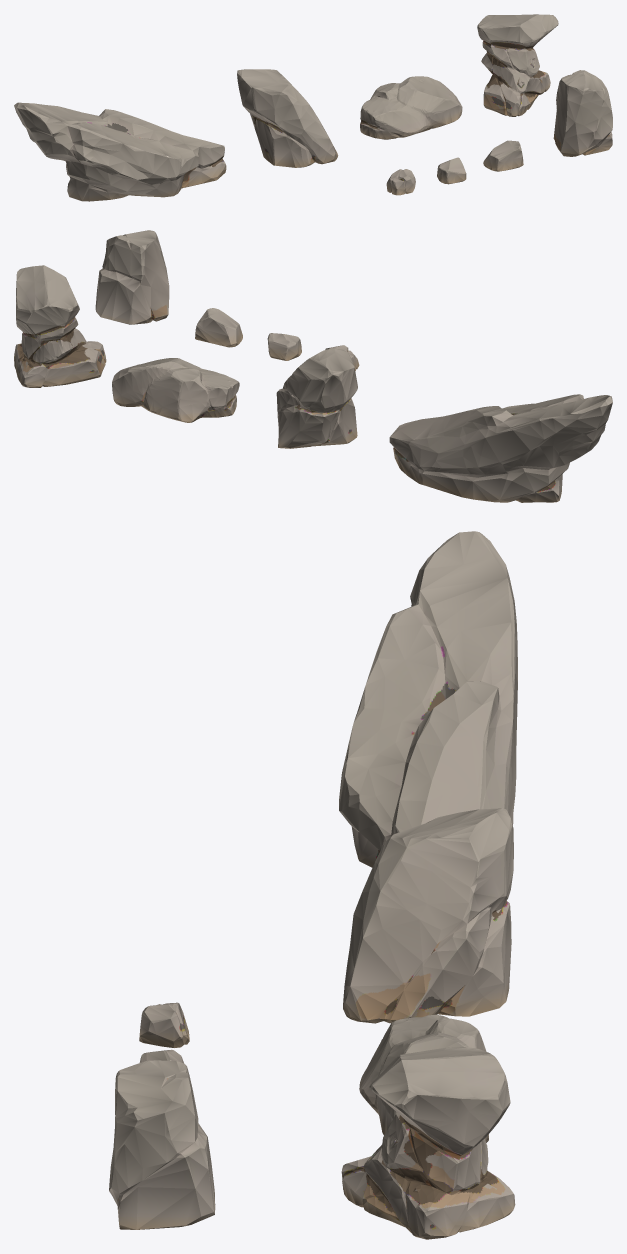
File: RockSetStylized.fbx
3 renders of one model, top to bottom at view 1: azimuth 30°, elevation 25°; view 2: azimuth 150°, elevation 25°; view 3: azimuth 270°, elevation 25°, orthographic. The views are drawn at different scales.
Parts seen in each view (by area): view 1: RockSetStylized_01_Rock, RockSetStylized_02_Rock, RockSetStylized_07_Rock, RockSetStylized_04_Rock, RockSetStylized_06_Rock, RockSetStylized_03_Rock, RockSetStylized_05_Rock; view 2: RockSetStylized_01_Rock, RockSetStylized_07_Rock, RockSetStylized_02_Rock, RockSetStylized_04_Rock, RockSetStylized_06_Rock, RockSetStylized_05_Rock, RockSetStylized_03_Rock; view 3: RockSetStylized_01_Rock, RockSetStylized_02_Rock, RockSetStylized_07_Rock, RockSetStylized_06_Rock, RockSetStylized_04_Rock, RockSetStylized_03_Rock.
Part boxes in pixels (x1=…): RockSetStylized_01_Rock: x1=14, y1=102, x2=226, y2=201; RockSetStylized_02_Rock: x1=237, y1=69, x2=338, y2=167; RockSetStylized_07_Rock: x1=477, y1=14, x2=558, y2=116; RockSetStylized_04_Rock: x1=360, y1=76, x2=462, y2=139; RockSetStylized_06_Rock: x1=553, y1=70, x2=612, y2=156; RockSetStylized_03_Rock: x1=386, y1=157, x2=466, y2=195; RockSetStylized_05_Rock: x1=483, y1=140, x2=523, y2=171; RockSetStylized_01_Rock: x1=389, y1=394, x2=612, y2=502; RockSetStylized_07_Rock: x1=14, y1=265, x2=106, y2=387; RockSetStylized_02_Rock: x1=276, y1=348, x2=357, y2=448; RockSetStylized_04_Rock: x1=112, y1=358, x2=239, y2=422; RockSetStylized_06_Rock: x1=95, y1=230, x2=169, y2=324; RockSetStylized_05_Rock: x1=195, y1=308, x2=242, y2=347; RockSetStylized_03_Rock: x1=267, y1=333, x2=359, y2=370; RockSetStylized_01_Rock: x1=339, y1=531, x2=517, y2=867; RockSetStylized_02_Rock: x1=343, y1=808, x2=513, y2=1023; RockSetStylized_07_Rock: x1=341, y1=1047, x2=515, y2=1239; RockSetStylized_06_Rock: x1=109, y1=1060, x2=215, y2=1229; RockSetStylized_04_Rock: x1=359, y1=1014, x2=488, y2=1142; RockSetStylized_03_Rock: x1=139, y1=1002, x2=189, y2=1063.
Size of the model in its own units: 10 by 1.94 by 3.37.
Materials: 1 (1 with a texture image).
